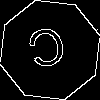C: (25, 25, 72, 79)
